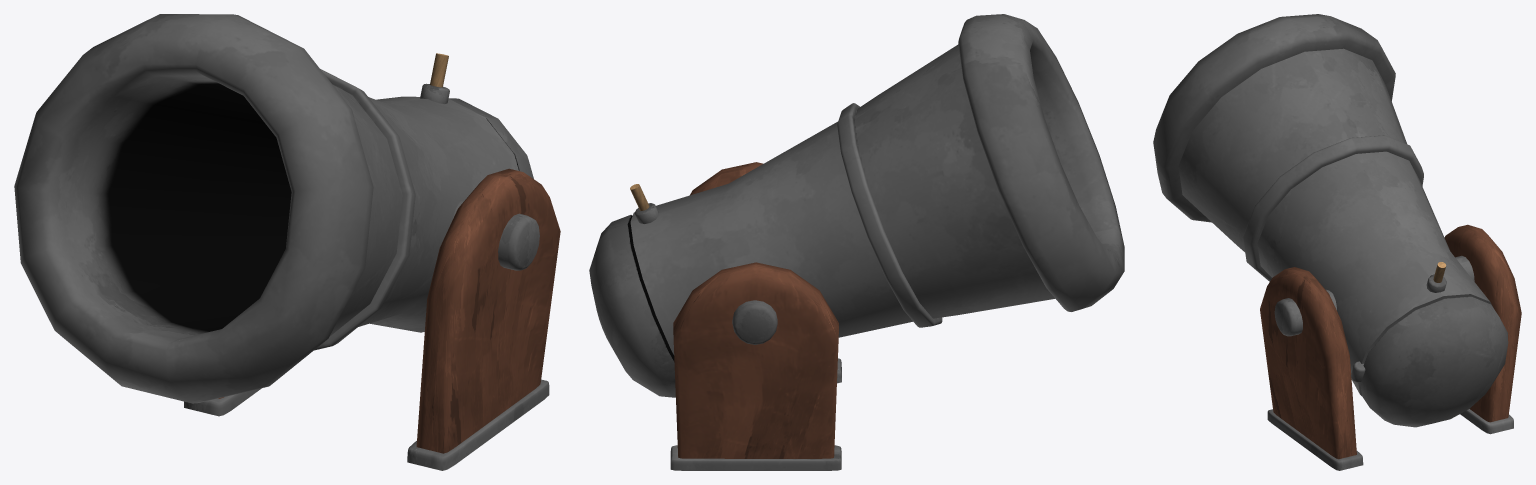
The model's file is Tower deel 3 canon.fbx.
3 renders of one model, left to right at view 1: azimuth 30°, elevation 25°; view 2: azimuth 150°, elevation 25°; view 3: azimuth 270°, elevation 25°, orthographic. The views are drawn at different scales.
Parts seen in each view (by area): view 1: Cannon Barrel.001, Cannon .001; view 2: Cannon Barrel.001, Cannon .001; view 3: Cannon Barrel.001, Cannon .001.
Part boxes in pixels (x1,y1,x2,y2): Cannon Barrel.001: (14, 14, 539, 403); Cannon .001: (184, 168, 560, 470); Cannon Barrel.001: (589, 14, 1124, 397); Cannon .001: (670, 162, 841, 470); Cannon Barrel.001: (1153, 14, 1508, 427); Cannon .001: (1260, 224, 1521, 470).
Size of the model in its own units: 575 by 479 by 486.
